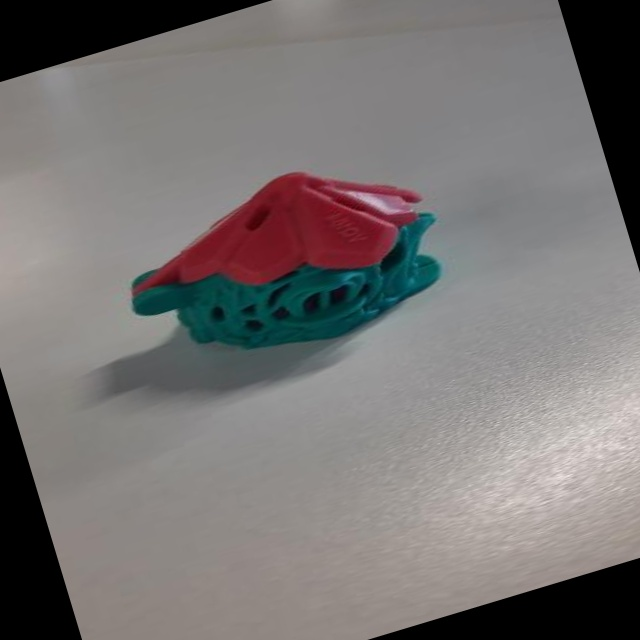House: (95, 120, 485, 404)
